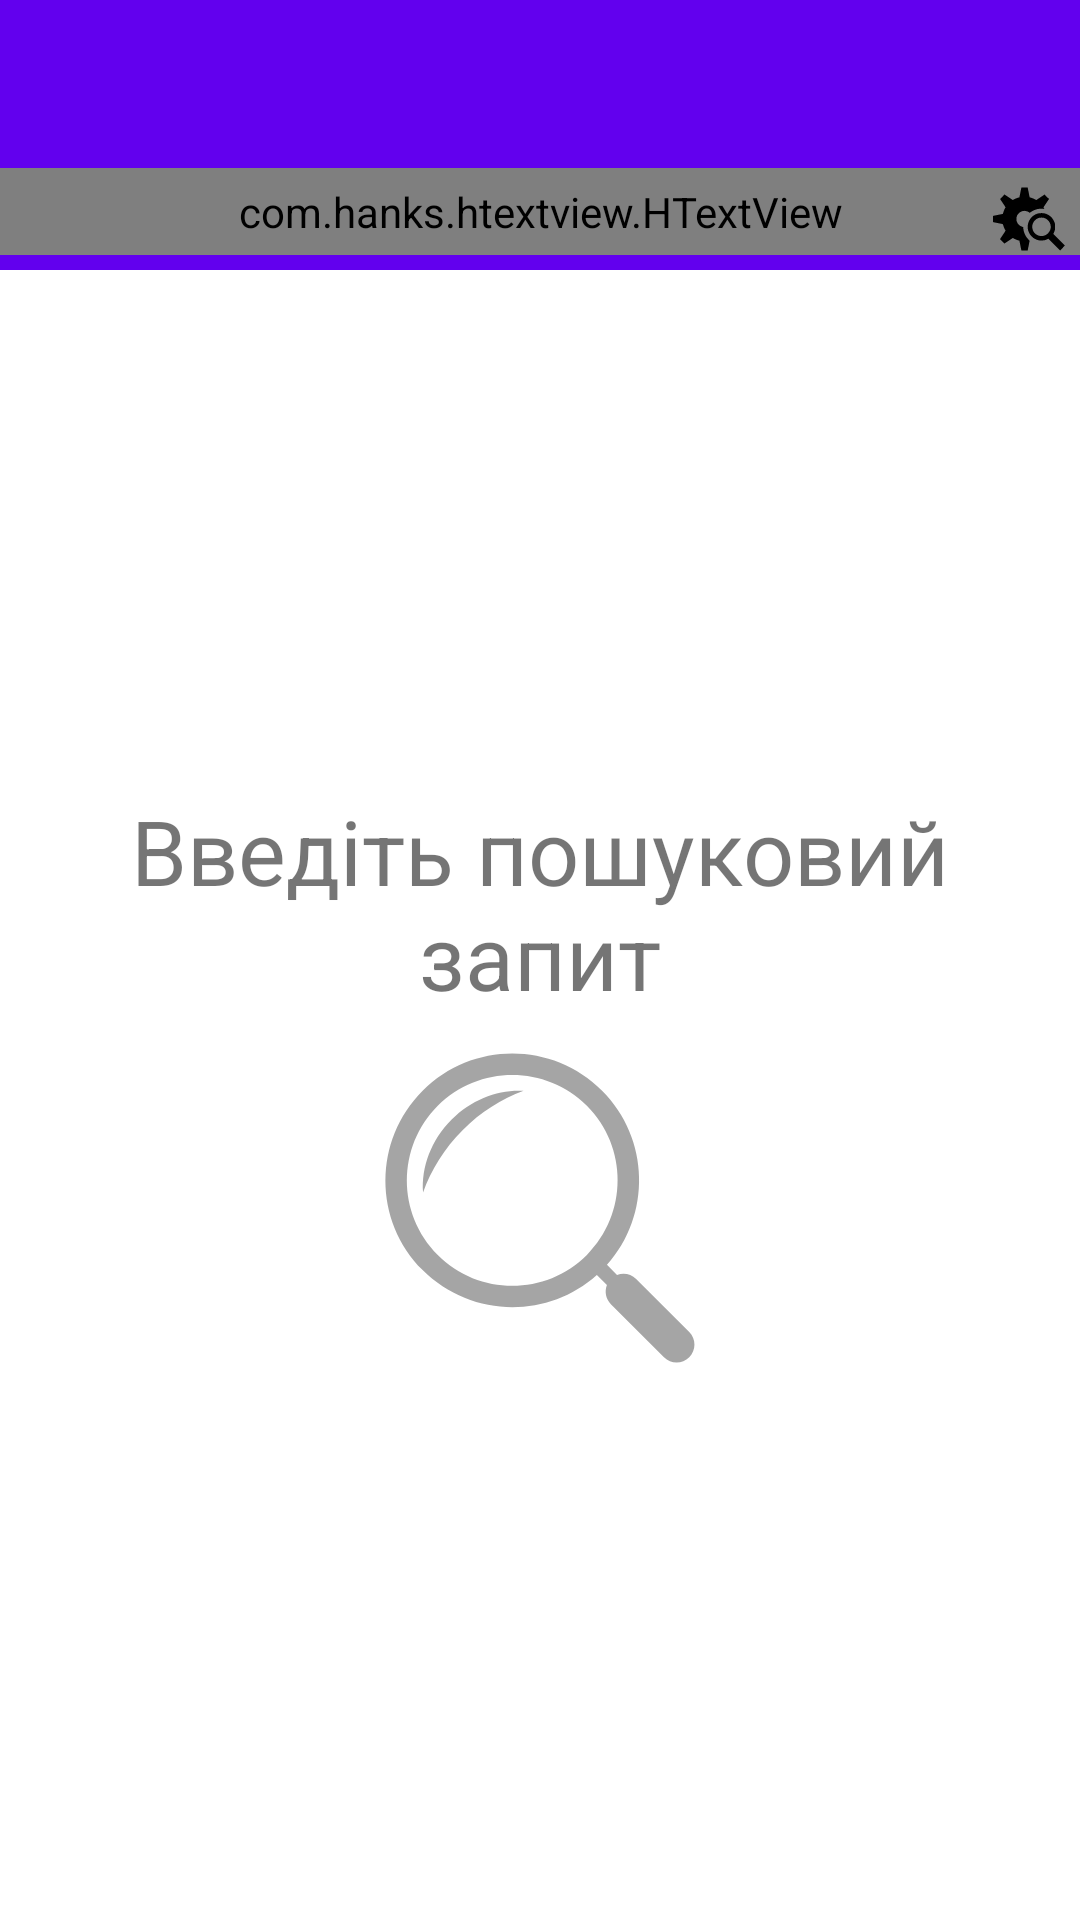

Screen size 1080w x 1920h. Icon name, then its center in pixels as [x,y]:
cog analyze: [1029,219]
